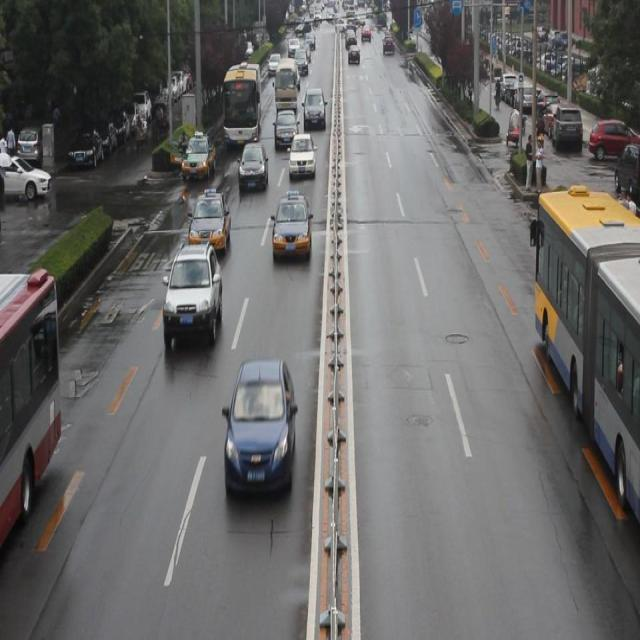car: (222, 363, 295, 495), (161, 242, 222, 349), (270, 192, 311, 260), (189, 192, 230, 257), (183, 134, 216, 184), (238, 141, 268, 192), (288, 131, 315, 177), (273, 112, 299, 150), (302, 87, 325, 128)
van: (530, 182, 640, 517), (1, 269, 62, 535), (224, 62, 262, 147)
